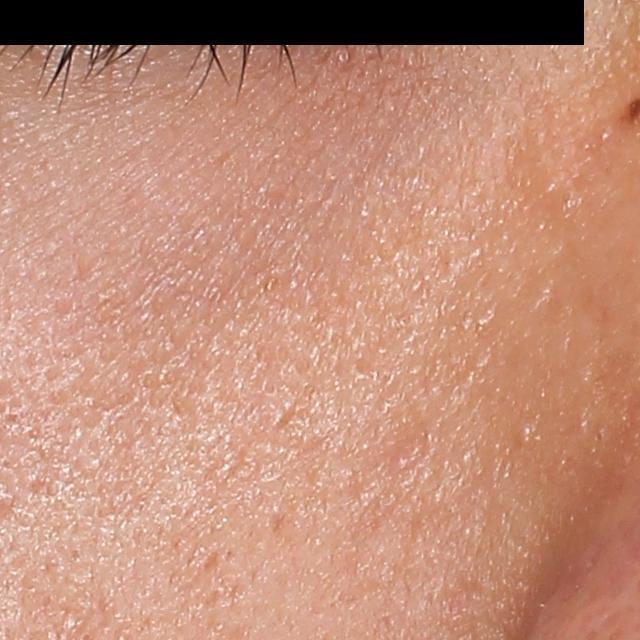atrophic_scar: (198, 548, 218, 573)
comedo: (517, 422, 535, 444)
